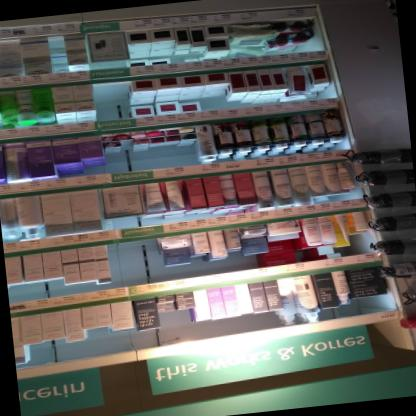empty_space: (93, 81, 131, 121), (106, 242, 130, 288), (124, 239, 147, 286), (142, 237, 165, 283)
